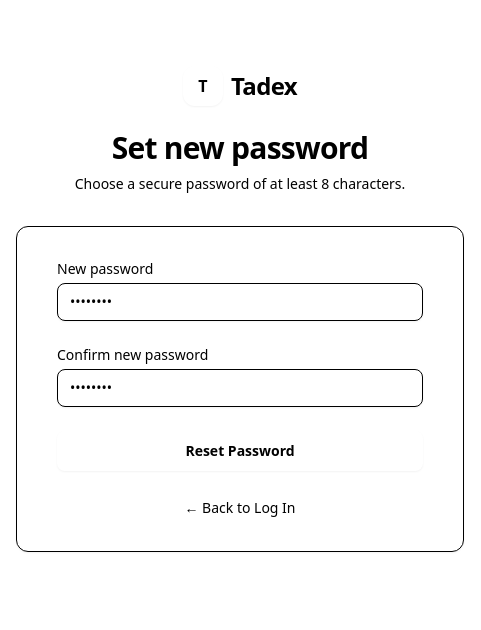
Test case: ResetPasswordPage › displays server error message on expired or reused token with link to request new link
Type "NewSecurePass123" into the password field labelled "New password" at (240, 302), box 57,283 -> 423,321
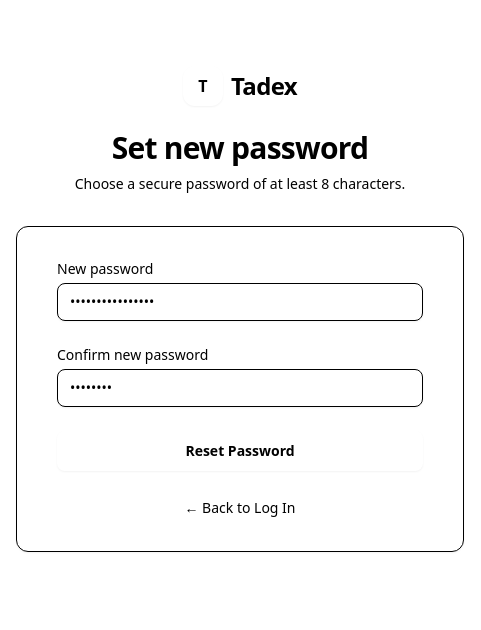
Type "NewSecurePass123" into the password field labelled "Confirm new password" at (240, 388), box 57,369 -> 423,407
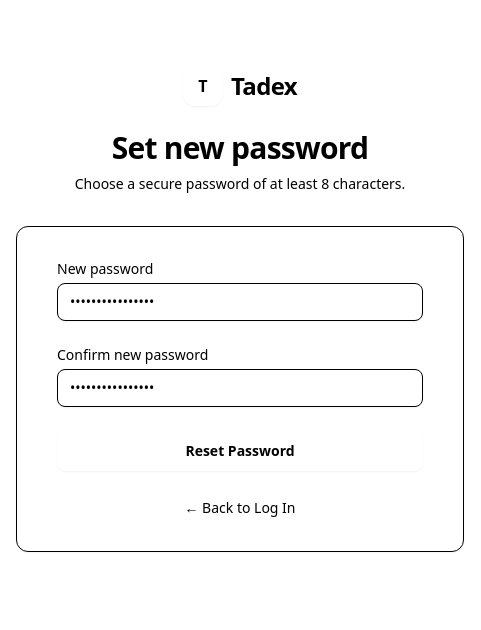
Click the button "Reset Password" at (240, 451), box 57,431 -> 423,471
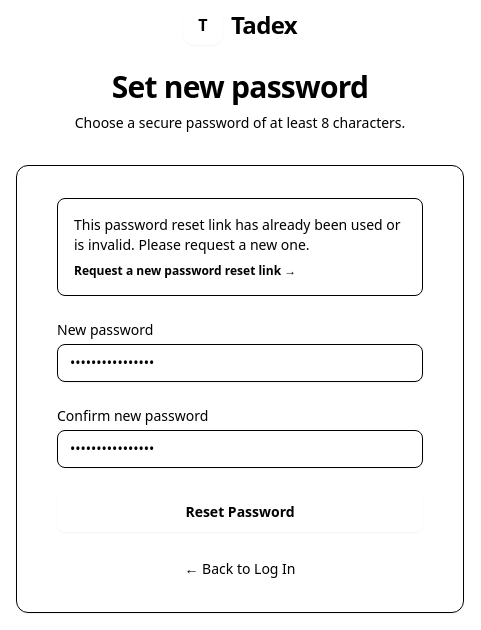
Result: the text "This password reset link has already been used" is shown at 74,215 -> 401,254
